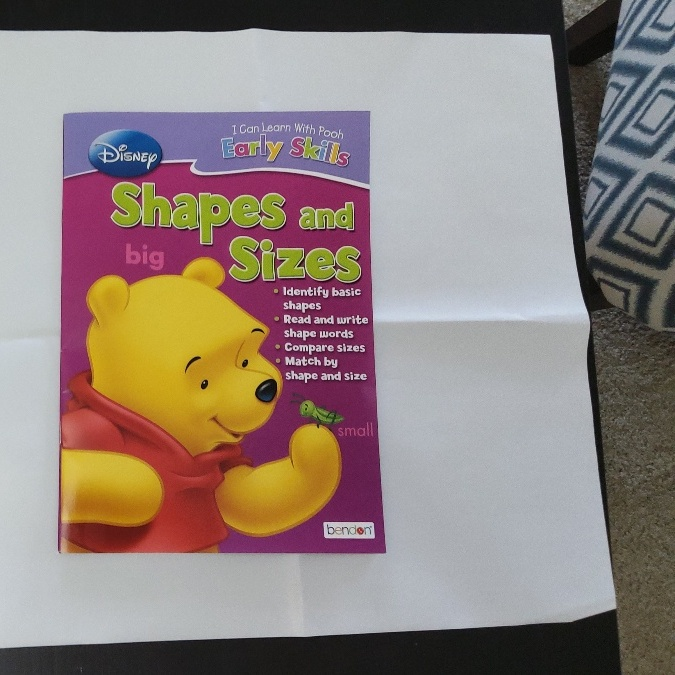book: (66, 114, 384, 551)
